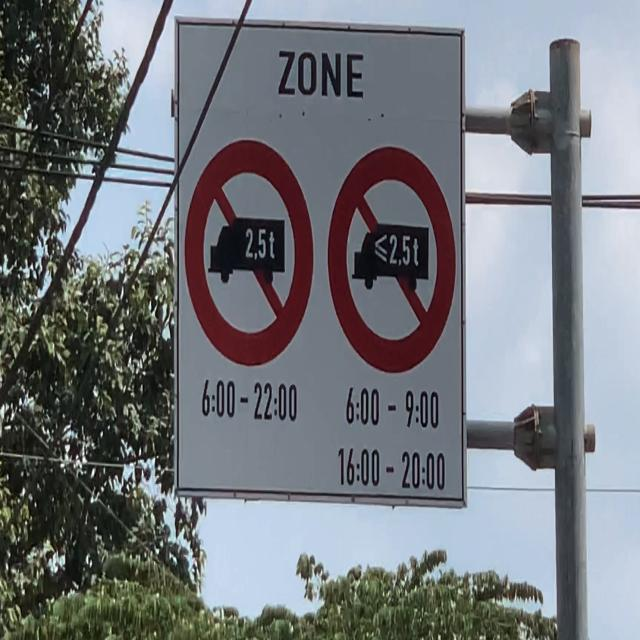Cam con lai: (184, 136, 315, 370), (327, 145, 458, 377)
